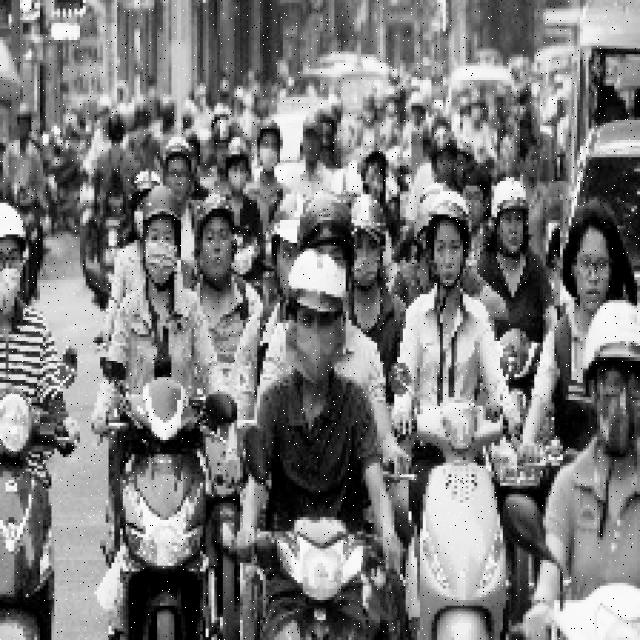Bike: (393, 382, 511, 638), (108, 391, 222, 640), (265, 498, 380, 640), (5, 395, 71, 640)
